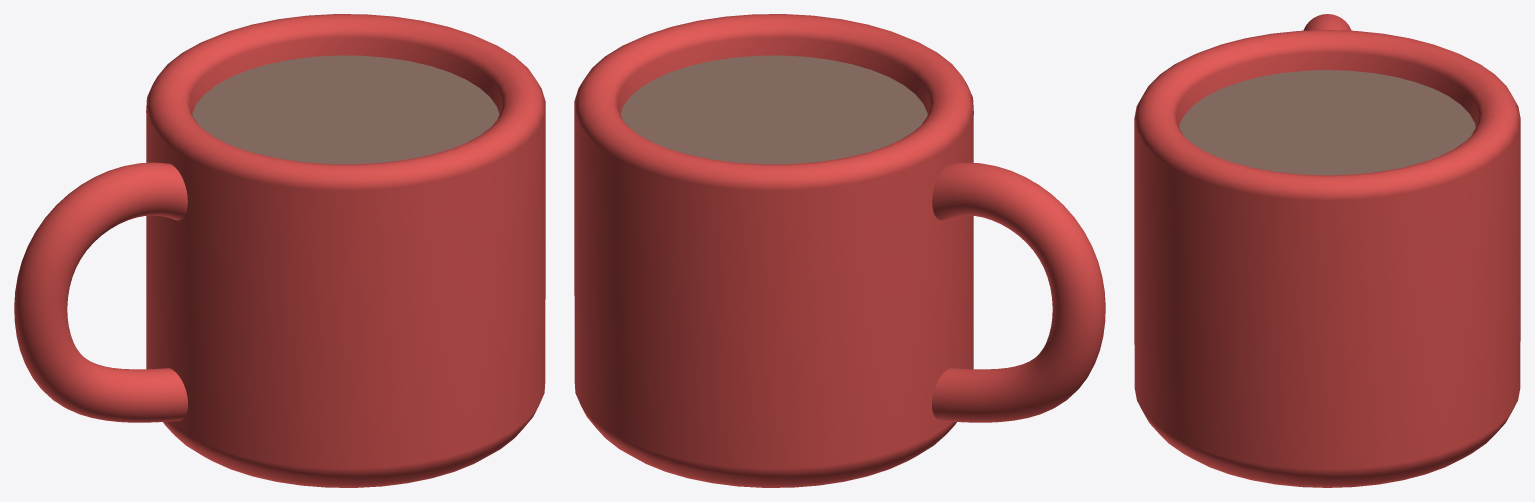
The model's file is Isl_8_Big_Cup_2.fbx.
3 renders of one model, left to right at view 1: azimuth 30°, elevation 25°; view 2: azimuth 150°, elevation 25°; view 3: azimuth 270°, elevation 25°, orthographic. The views are drawn at different scales.
Parts seen in each view (by area): view 1: Isl_8_Big_Cup_2; view 2: Isl_8_Big_Cup_2; view 3: Isl_8_Big_Cup_2.
Boxes of the visible parts, <box> form: Isl_8_Big_Cup_2: <box>14,14,545,487</box>; Isl_8_Big_Cup_2: <box>574,14,1105,487</box>; Isl_8_Big_Cup_2: <box>1134,14,1520,487</box>.
Size of the model in its own units: 152 by 95.06 by 105.
